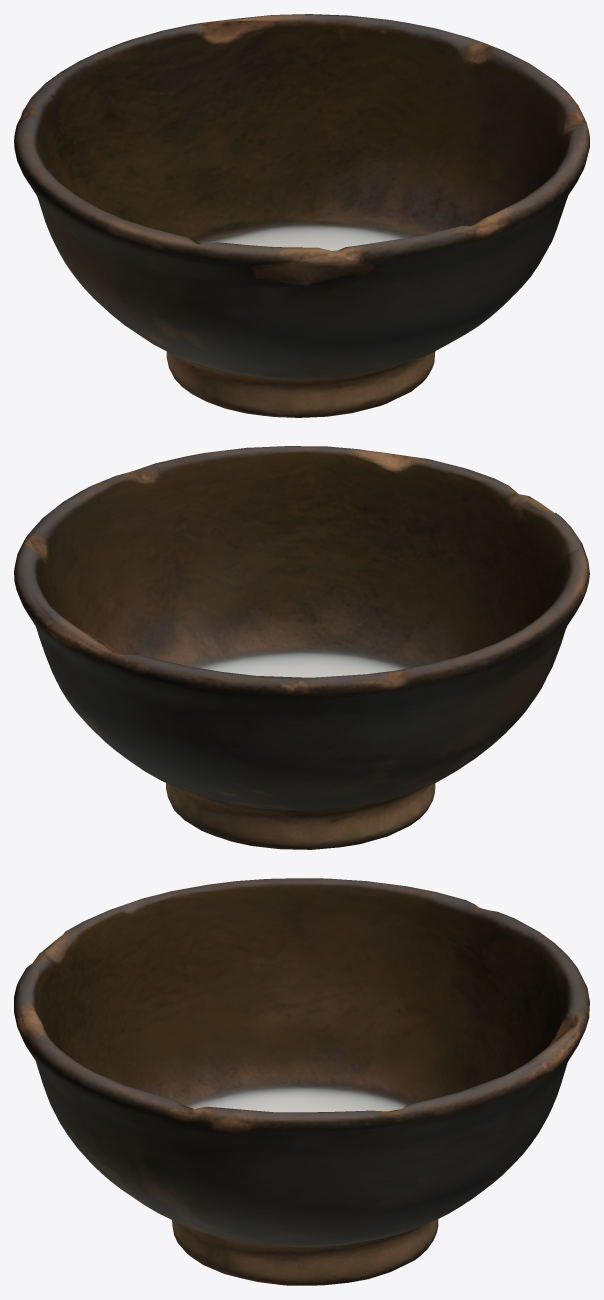
Rendered from cold_cup.glb.
The picture shows the model from 3 angles, top to bottom: view 1: azimuth 30°, elevation 25°; view 2: azimuth 150°, elevation 25°; view 3: azimuth 270°, elevation 25°; orthographic projection.
Visible parts, largest first — view 1: node_0; view 2: node_0; view 3: node_0.
Part boxes in pixels (bbox=[...]): node_0: bbox=[14, 14, 589, 417]; node_0: bbox=[14, 446, 589, 849]; node_0: bbox=[14, 878, 589, 1285].
Size of the model in its own units: 1.1 by 0.4923 by 1.09.
Materials: 1 (1 with a texture image).
